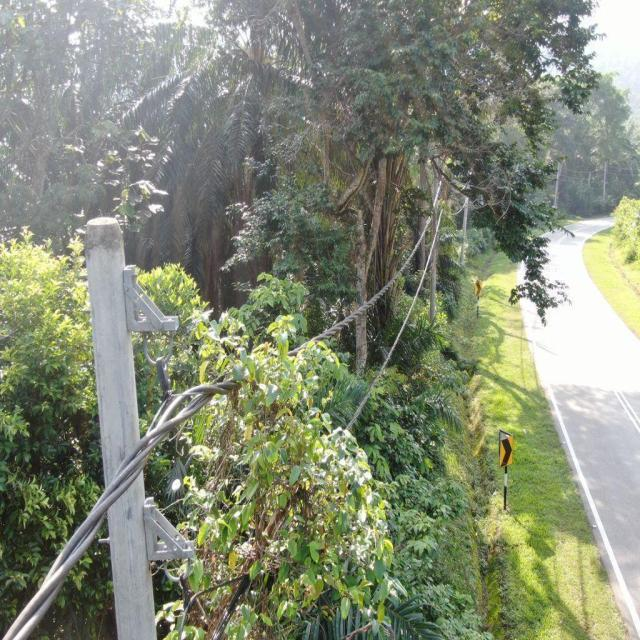critical vegetation: (186, 306, 360, 578)
